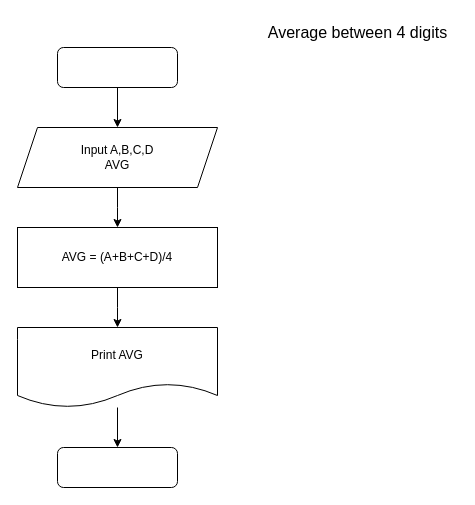
The diagram is 475 pixels wide and 505 high, and some of its shapes have lost their labels. Here are the shapes that lost their labels. From the top down, the centre of each, then its label:
At [117,67]: "Start".
At [117,467]: "Stop".
